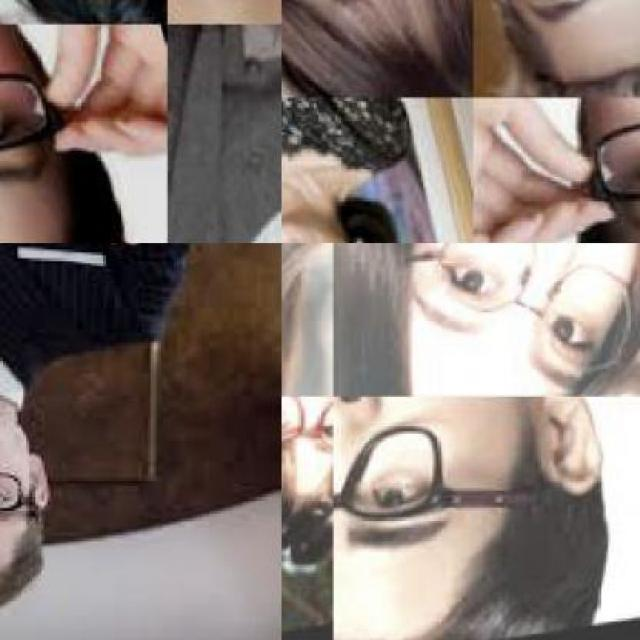glasses: (392, 243, 638, 397), (333, 404, 530, 572), (0, 69, 80, 164), (0, 463, 37, 526)
